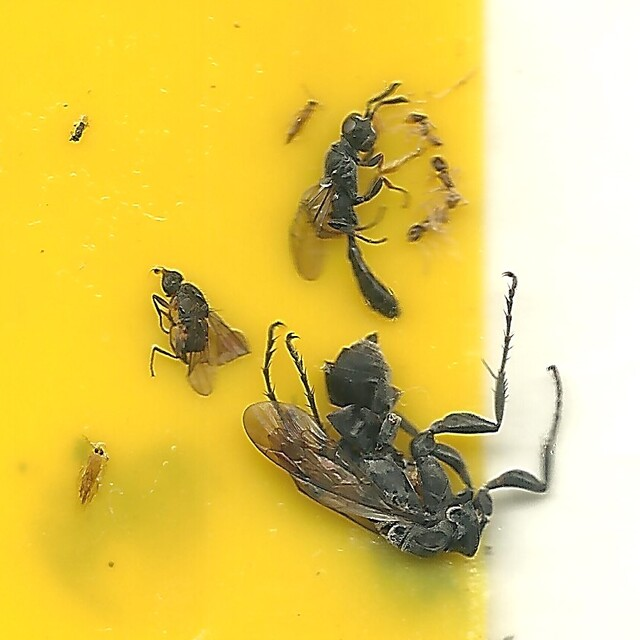Brachycera: (240, 270, 565, 558), (141, 259, 249, 400)
Hymenoptera: (287, 82, 426, 321), (405, 194, 463, 248), (407, 110, 445, 149)
Trichoptera: (75, 433, 108, 503), (282, 97, 323, 147)
